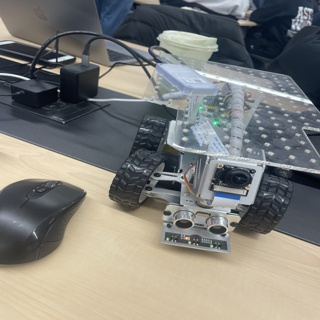vehicle: (108, 45, 319, 255)
